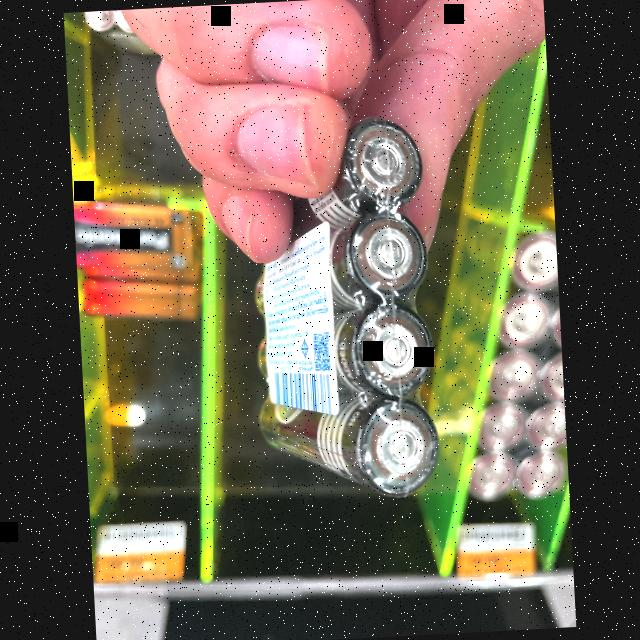battery: (240, 288, 443, 404), (253, 203, 433, 324), (249, 390, 442, 500), (276, 109, 432, 245)
